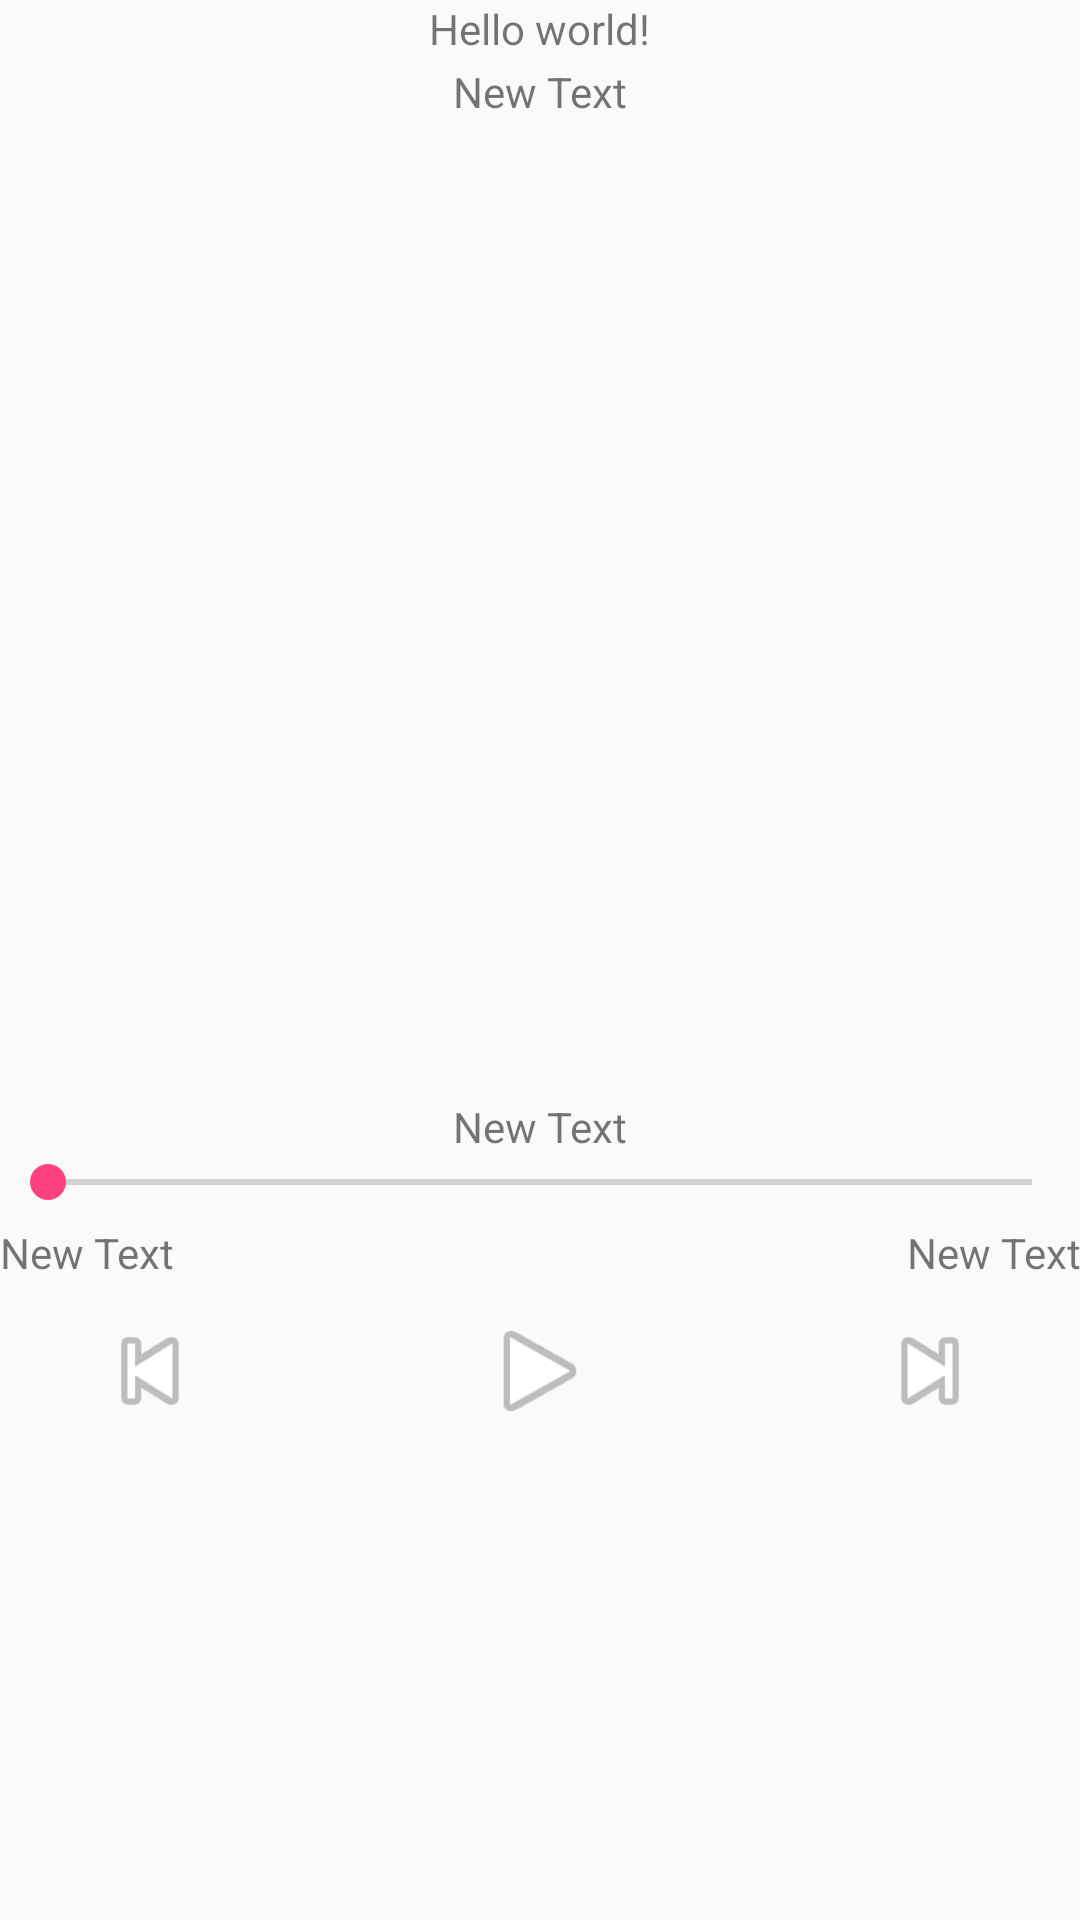

Icons on this 1080*1920 Android screen, each with its box as [x1,y1,x2,y2]:
next: [901,1337,959,1405]
play: [504,1331,576,1411]
previous: [121,1337,179,1405]
